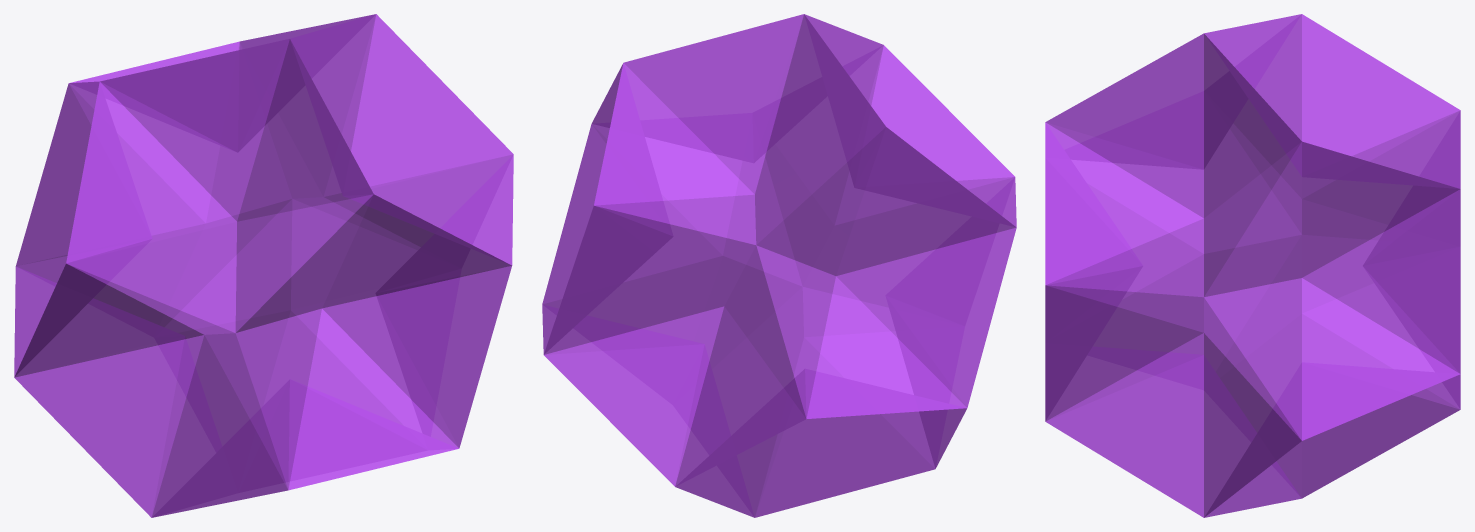
Rendered from 07_Dodekexcavated_Dodecahedron.obj.
The picture shows the model from 3 angles, left to right: view 1: azimuth 30°, elevation 25°; view 2: azimuth 150°, elevation 25°; view 3: azimuth 270°, elevation 25°; orthographic projection. The views are drawn at different scales.
Bounding box in the file's own units: 2.62 × 2.75 × 2.23.
